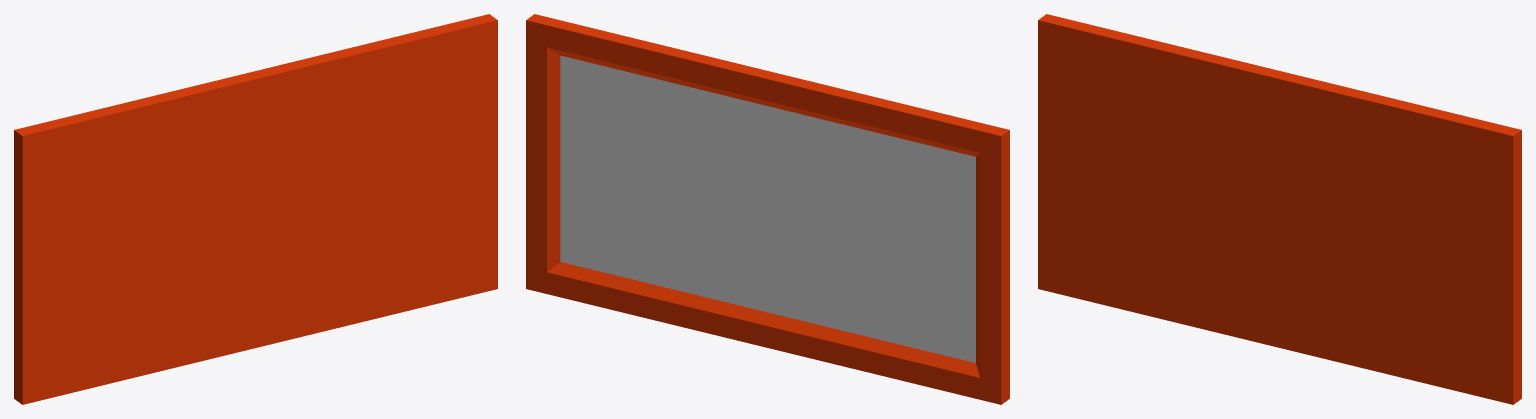
File: Frame2.fbx
3 views of the same model, side by side, from view 1: azimuth 30°, elevation 25°; view 2: azimuth 150°, elevation 25°; view 3: azimuth 330°, elevation 25° (orthographic).
Visible parts, largest first — view 1: Cube.022; view 2: Cube.022; view 3: Cube.022.
Boxes of the visible parts, left/top/right/bottom form: Cube.022: left=14, top=14, right=497, bottom=404; Cube.022: left=526, top=14, right=1009, bottom=404; Cube.022: left=1038, top=14, right=1521, bottom=404.
Size of the model in its own units: 37 by 20 by 1.16.
